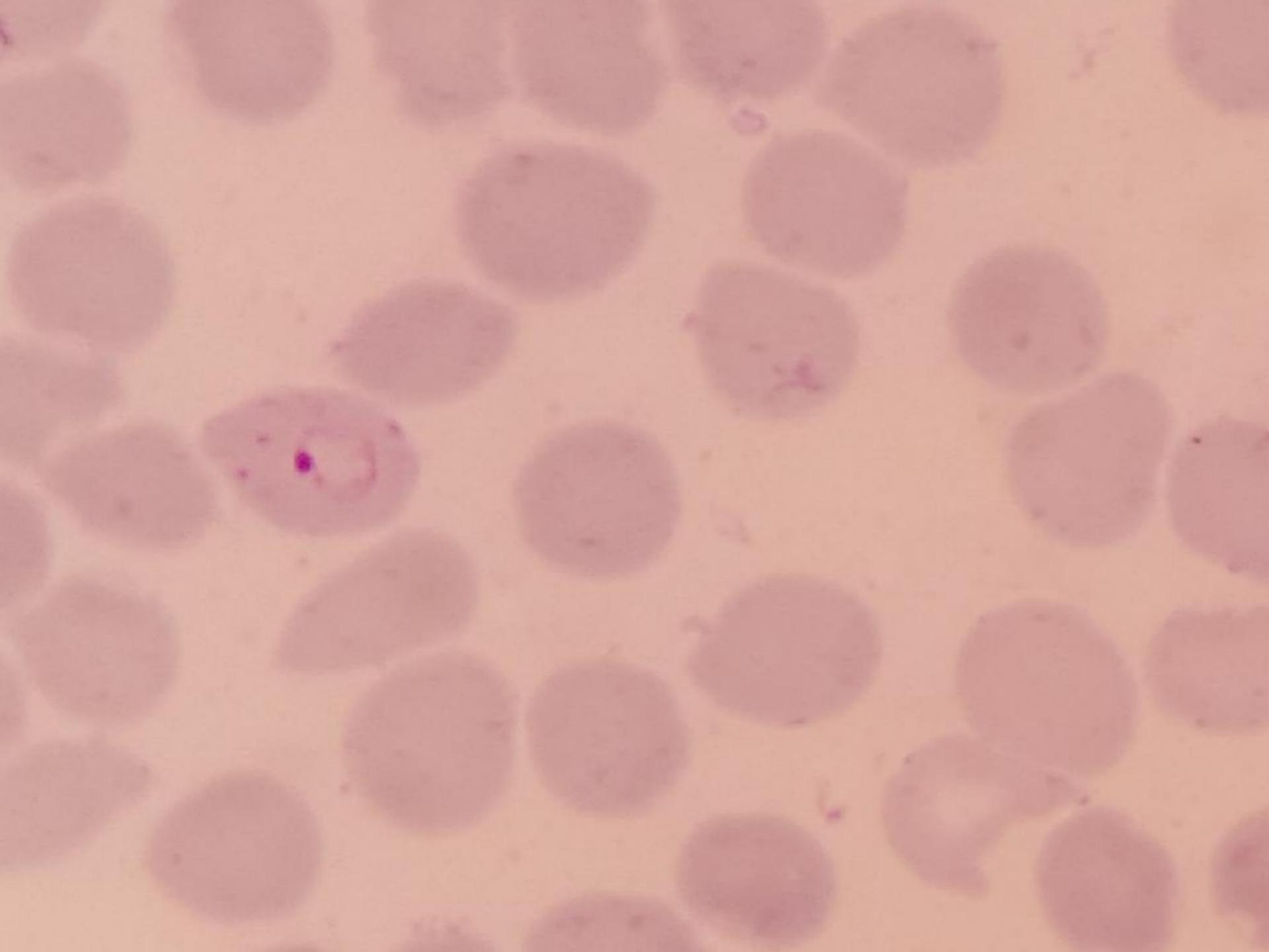Infected: (207, 388, 421, 532)
Uninfected: (881, 735, 1082, 900), (454, 136, 654, 300), (960, 598, 1140, 769), (342, 651, 512, 827), (1003, 369, 1169, 549), (687, 572, 881, 725), (274, 524, 480, 668), (511, 415, 684, 574), (828, 0, 1003, 157), (692, 255, 865, 413), (520, 651, 685, 804), (0, 197, 178, 335), (154, 773, 322, 919), (332, 276, 515, 406), (950, 245, 1114, 390), (13, 577, 184, 714), (41, 418, 220, 547), (673, 811, 836, 952), (747, 134, 909, 273), (502, 0, 664, 131), (359, 0, 515, 127), (1041, 805, 1181, 944), (0, 734, 150, 862), (175, 0, 328, 123), (1147, 600, 1269, 740), (1167, 420, 1269, 584), (0, 50, 129, 177), (668, 0, 827, 100)
